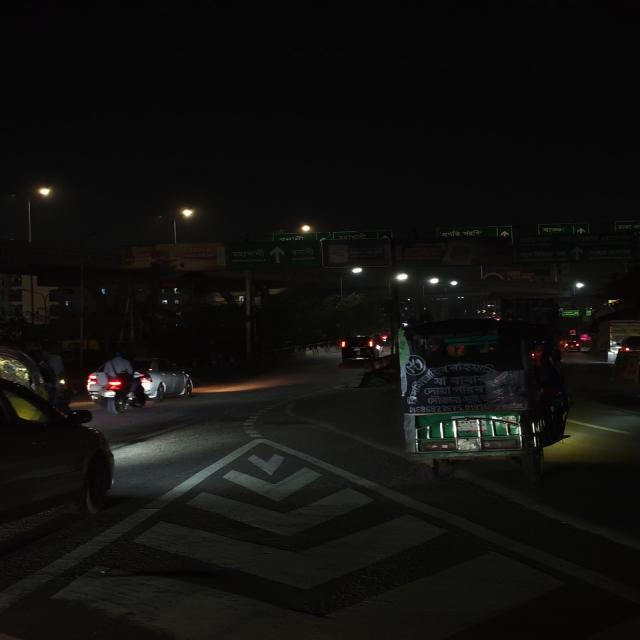car: (148, 362, 198, 406), (338, 334, 382, 366)
motorcycle: (83, 352, 148, 409)
rickshaw: (394, 316, 576, 475), (0, 341, 77, 403)
